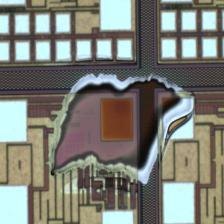BLOCK ETCH: (43, 69, 205, 200)
